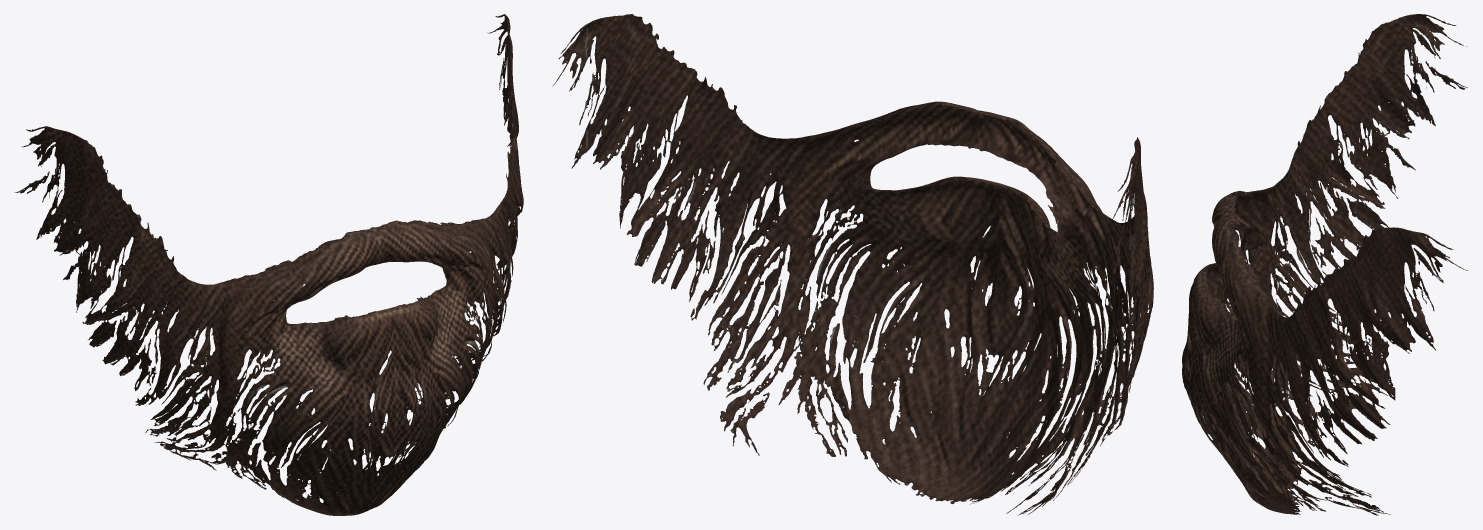
The model's file is Barba_Média.glb.
3 renders of one model, left to right at view 1: azimuth 30°, elevation 25°; view 2: azimuth 150°, elevation 25°; view 3: azimuth 270°, elevation 25°, orthographic. The views are drawn at different scales.
Size of the model in its own units: 1.89 by 1.48 by 1.
1 material, 1 textured.
